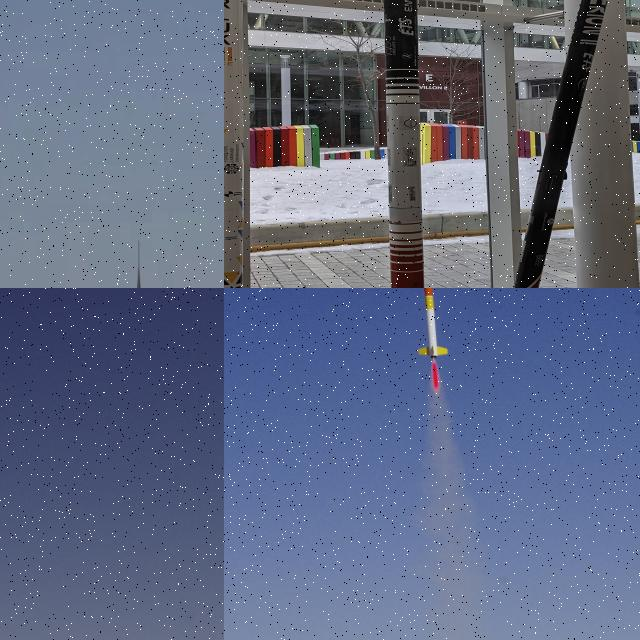Rocket: (512, 0, 608, 288), (384, 0, 425, 288), (224, 0, 244, 288), (416, 288, 449, 359)
